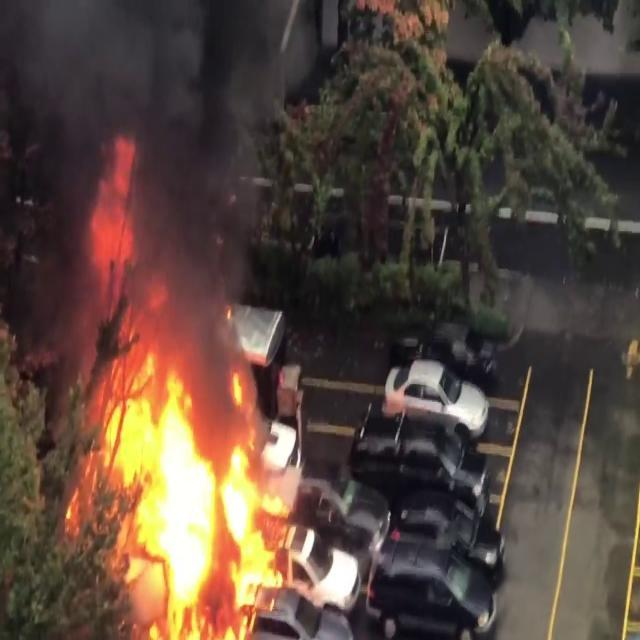Fire: (68, 247, 288, 636)
Smoke: (0, 0, 299, 341)
